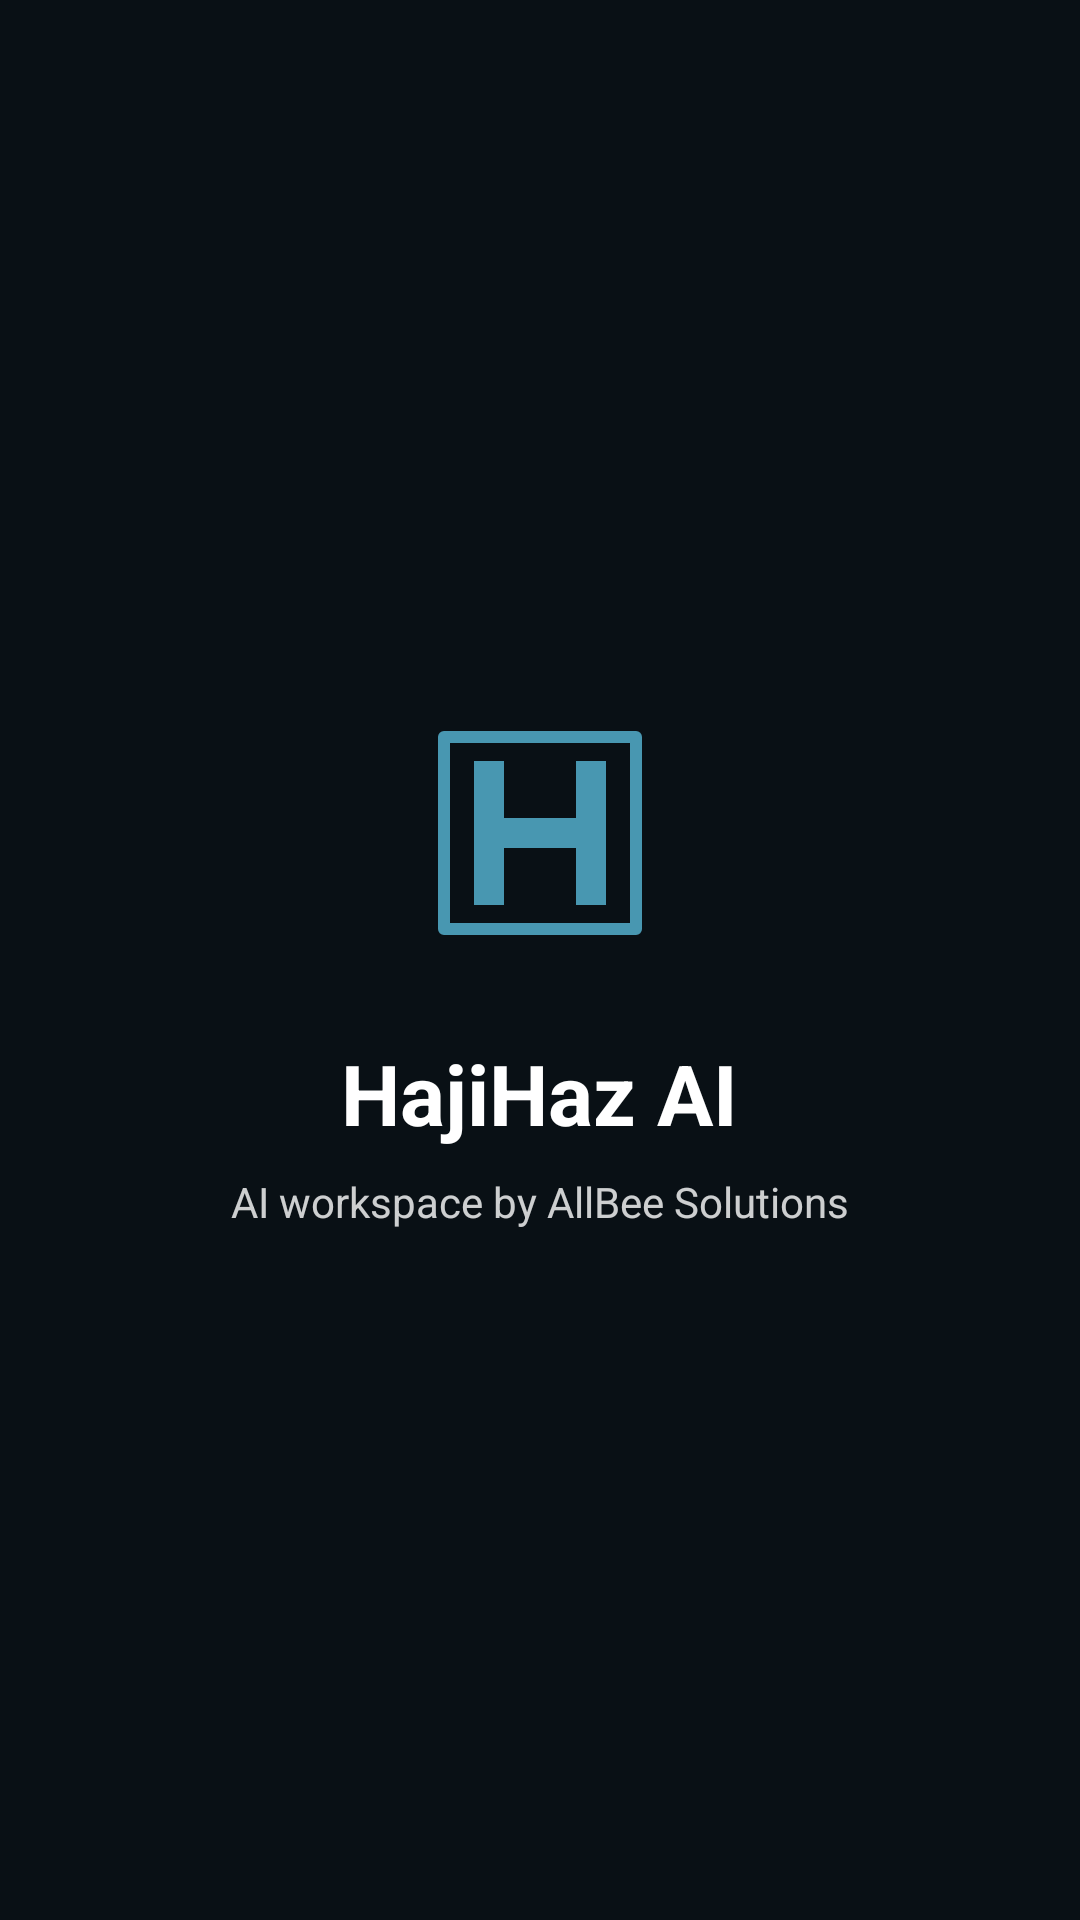

Locate icon controls on the screen. Image size 1080w x 1920h, boxes as bbox=(x1, y1, x2, y2).
hajihaz mark: bbox=(438, 731, 642, 935)
